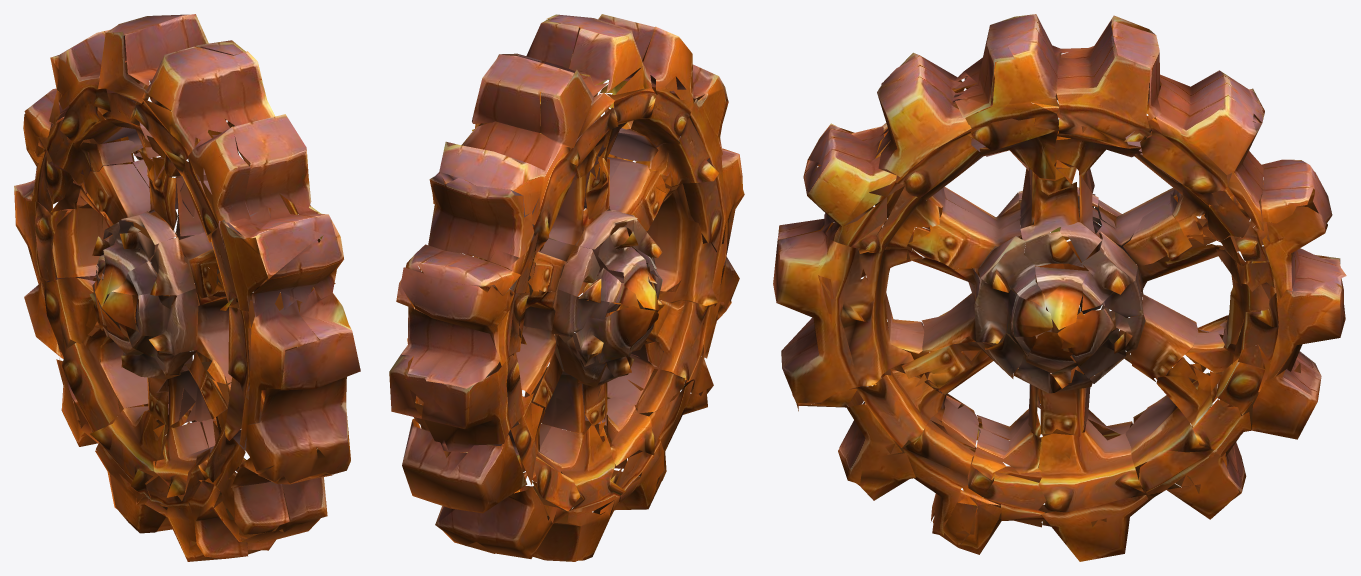
The model's file is engrenagem.glb.
3 renders of one model, left to right at view 1: azimuth 30°, elevation 25°; view 2: azimuth 150°, elevation 25°; view 3: azimuth 270°, elevation 25°, orthographic. The views are drawn at different scales.
Parts seen in each view (by area): view 1: engrenagem; view 2: engrenagem; view 3: engrenagem.
Part boxes in pixels (x1,y1,x2,y2): engrenagem: (14, 14, 360, 561); engrenagem: (389, 14, 744, 561); engrenagem: (773, 14, 1346, 561).
Size of the model in its own units: 0.3651 by 1 by 1.
Materials: 1 (1 with a texture image).
